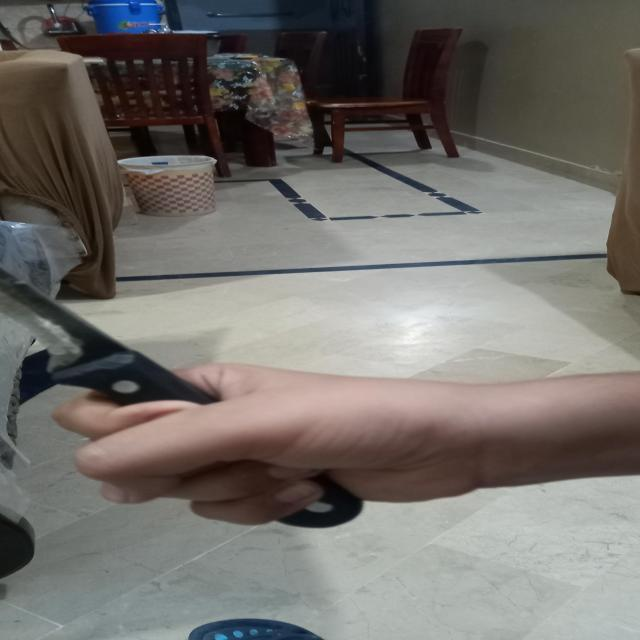faca: (0, 264, 361, 529)
